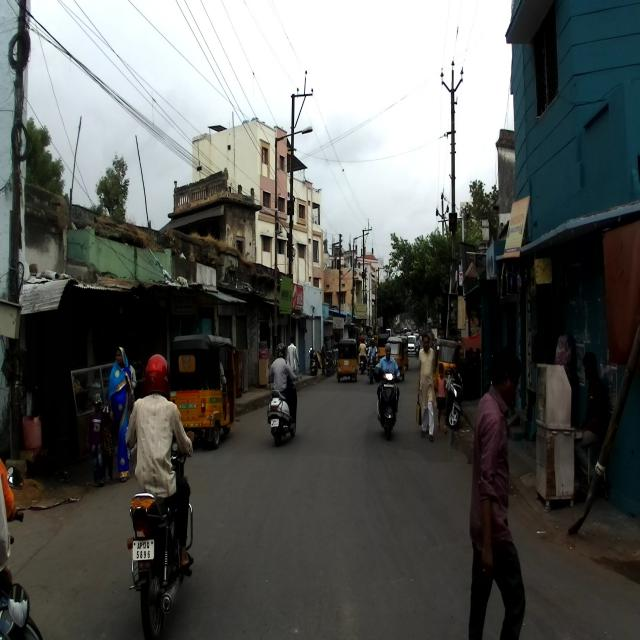autorickshaw: (168, 332, 237, 450)
motorcycle: (127, 424, 199, 638)
scooter: (266, 373, 300, 446), (376, 366, 403, 442)
